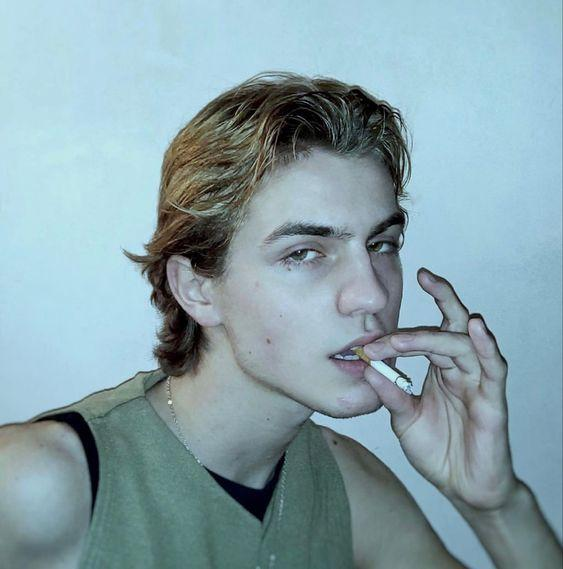cigarette: (348, 345, 414, 396)
